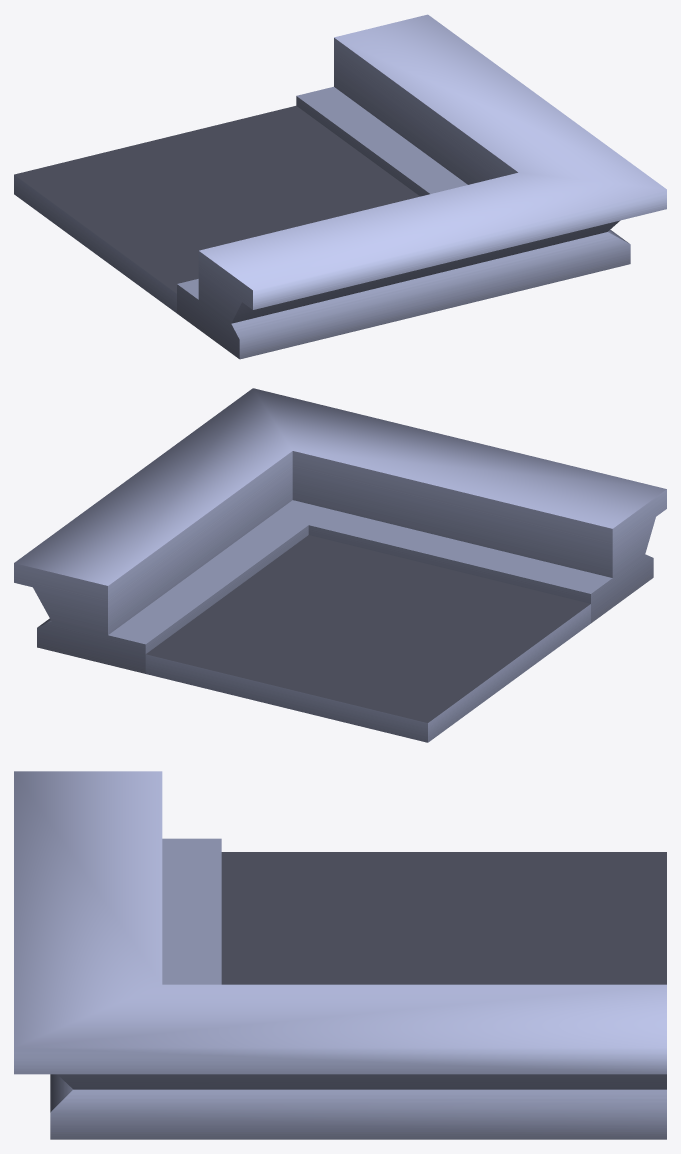
Rendered from building_roof_flat_corner.glb.
3 renders of one model, top to bottom at view 1: azimuth 30°, elevation 25°; view 2: azimuth 150°, elevation 25°; view 3: azimuth 270°, elevation 25°, orthographic. The views are drawn at different scales.
Visible parts, largest first — view 1: roof-flat-corner; view 2: roof-flat-corner; view 3: roof-flat-corner.
Boxes of the visible parts, <box> form: roof-flat-corner: <box>14,14,666,359</box>; roof-flat-corner: <box>14,388,666,742</box>; roof-flat-corner: <box>14,771,666,1139</box>.
Bounding box in the file's own units: 2.2 × 0.4 × 2.2.
1 material, 1 textured.
